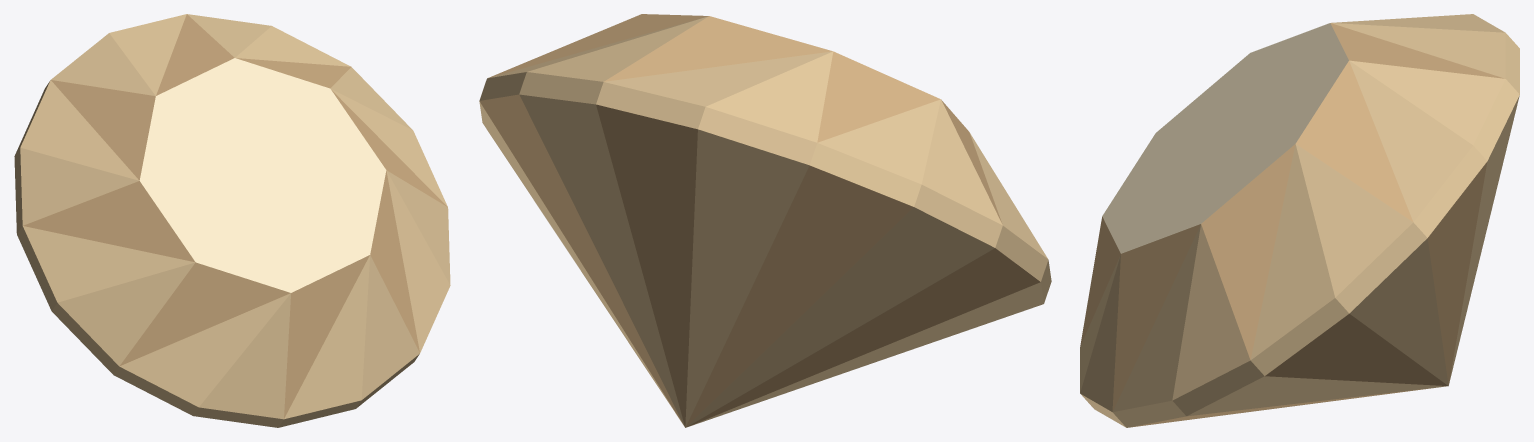
File: it-cutgem.glb
The picture shows the model from 3 angles, left to right: view 1: azimuth 30°, elevation 25°; view 2: azimuth 150°, elevation 25°; view 3: azimuth 270°, elevation 25°; orthographic projection. The views are drawn at different scales.
Visible parts, largest first — view 1: gem; view 2: gem; view 3: gem.
Part boxes in pixels (left/top/right/bottom): gem: left=14, top=14, right=450, bottom=427; gem: left=479, top=14, right=1051, bottom=427; gem: left=1080, top=14, right=1519, bottom=427.
Size of what is drawn, in the model's own units: 0.0981 by 0.0668 by 0.0785.
